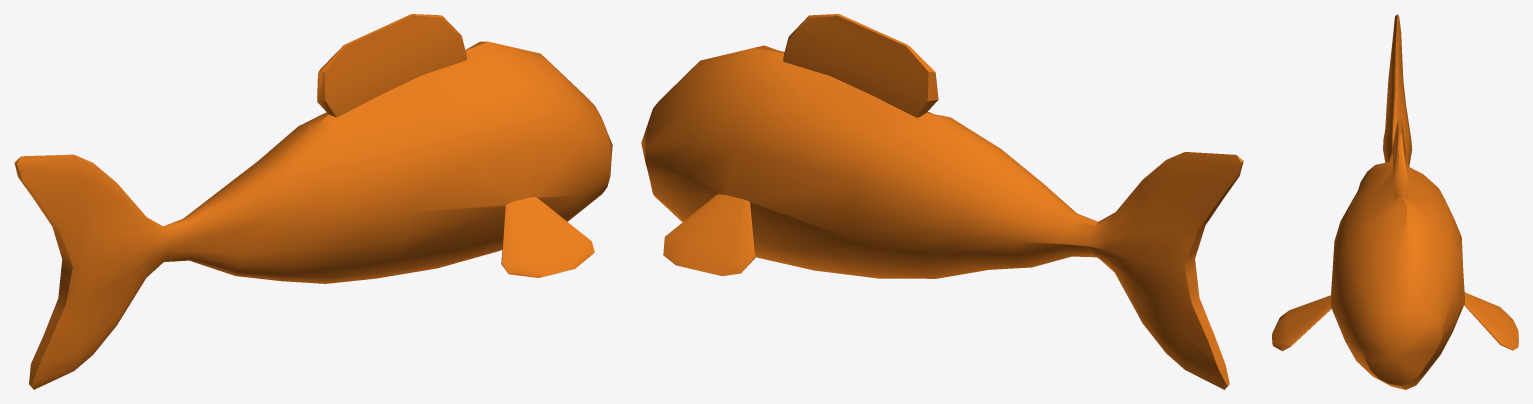
File: fish.gltf
The picture shows the model from 3 angles, left to right: view 1: azimuth 30°, elevation 25°; view 2: azimuth 150°, elevation 25°; view 3: azimuth 270°, elevation 25°; orthographic projection. The views are drawn at different scales.
Parts seen in each view (by area): view 1: fish low poly; view 2: fish low poly; view 3: fish low poly.
Part boxes in pixels (left/top/right/bottom): fish low poly: left=14, top=14, right=612, bottom=389; fish low poly: left=641, top=14, right=1243, bottom=389; fish low poly: left=1272, top=14, right=1518, bottom=389.
Size of the model in its own units: 0.9319 by 0.4195 by 0.4088.
